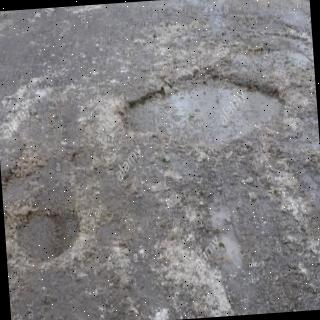pothole: (117, 66, 287, 149), (16, 207, 80, 265)
